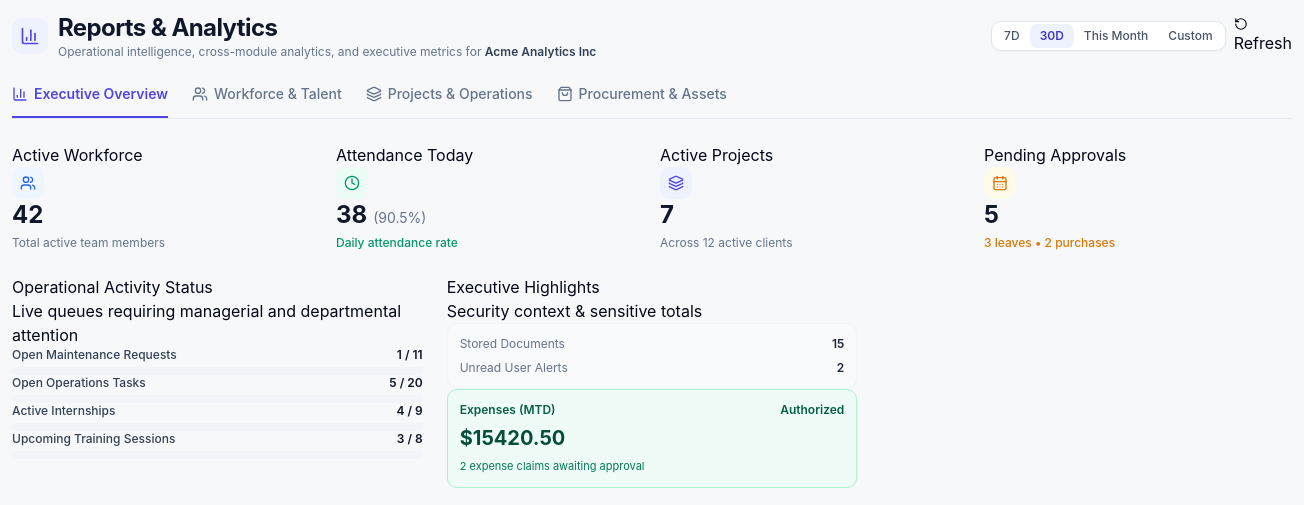
ReportsPage Component › switches to Workforce & Talent tab and displays department distributions
Expected: the text "42" is shown, [12, 200, 43, 229]
Click the button "Workforce & Talent".
click(267, 101)  # box [192, 84, 342, 118]
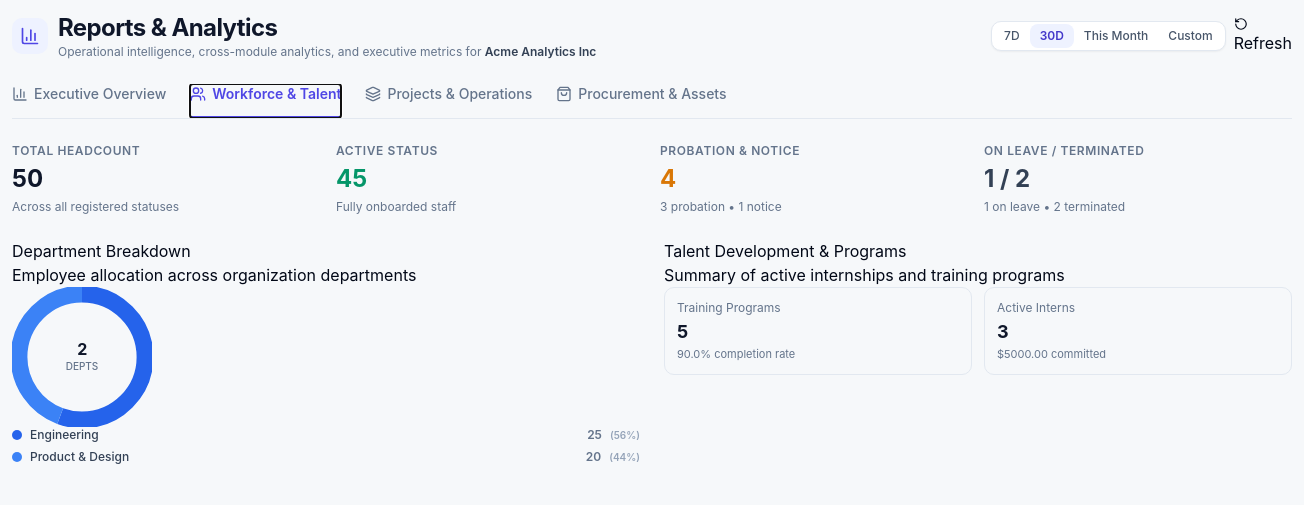
Result: the text "Engineering" is shown at [30, 427, 99, 443]
Result: the text "Product & Design" is shown at [30, 449, 129, 465]
